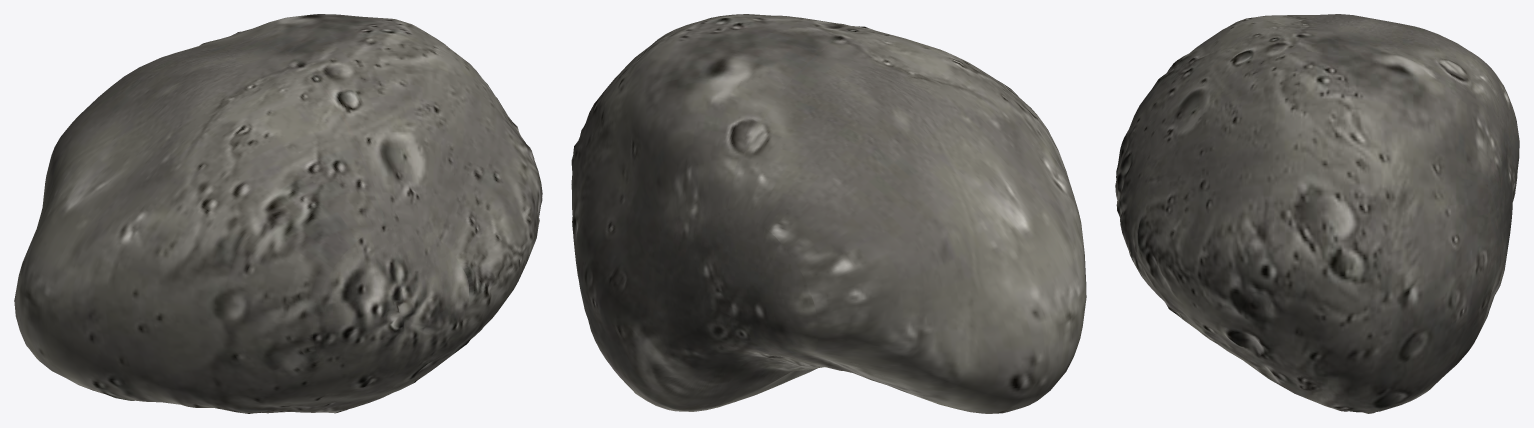
The model's file is deimos-low.glb.
3 views of the same model, side by side, from view 1: azimuth 30°, elevation 25°; view 2: azimuth 150°, elevation 25°; view 3: azimuth 270°, elevation 25° (orthographic). The views are drawn at different scales.
Parts seen in each view (by area): view 1: deimos; view 2: deimos; view 3: deimos.
Part boxes in pixels (x1=…): deimos: x1=14, y1=14, x2=542, y2=413; deimos: x1=571, y1=14, x2=1086, y2=413; deimos: x1=1115, y1=14, x2=1519, y2=413.
Bounding box in the file's own units: 15.01 × 10.51 × 11.86.
1 material, 1 textured.
